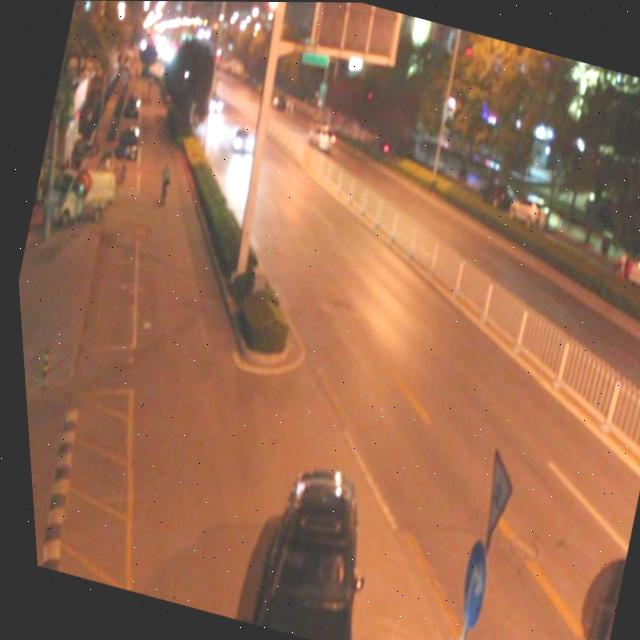car: (235, 452, 386, 640), (224, 121, 256, 153), (302, 122, 335, 153), (202, 90, 223, 113)
